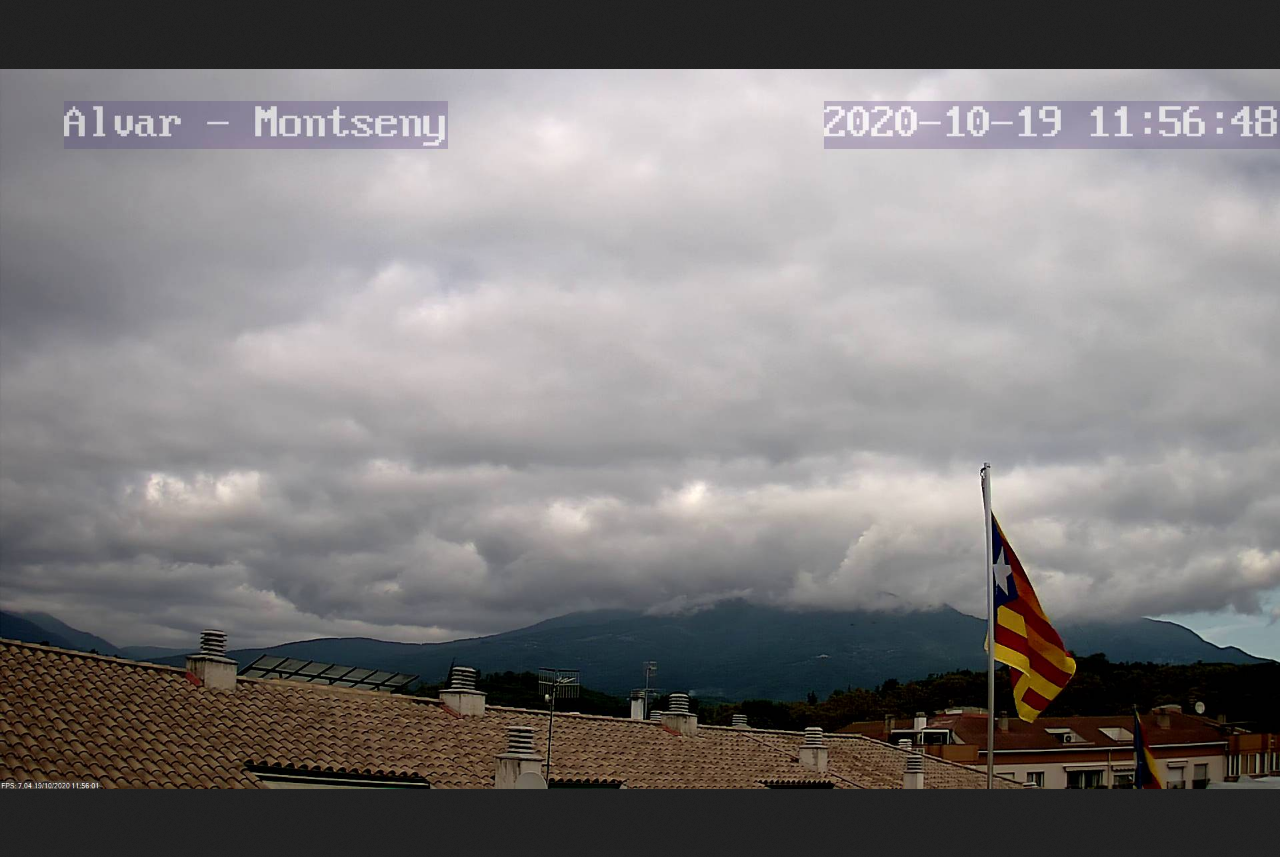no: (960, 443, 1091, 736)
